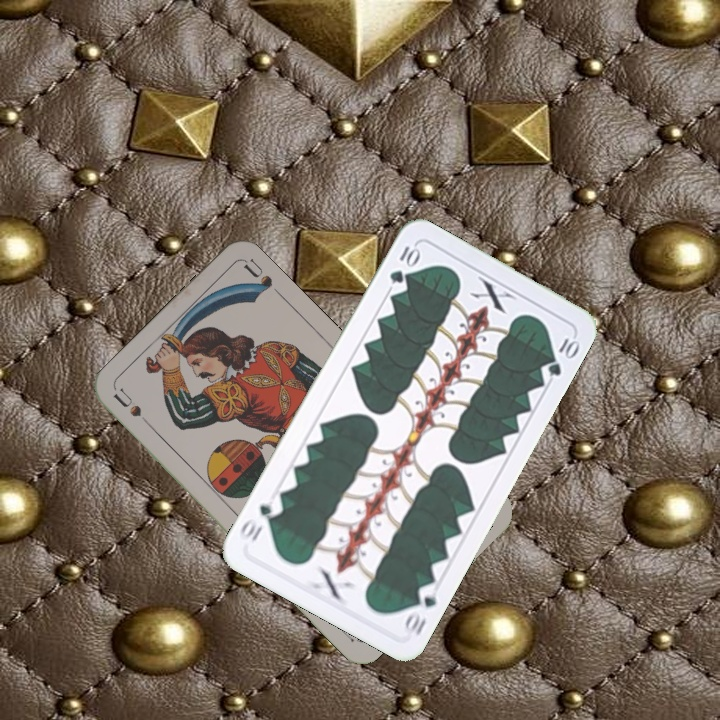G10: (400, 580, 441, 638), (385, 241, 422, 286)
SU: (109, 385, 158, 435)
